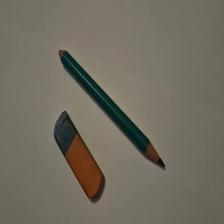eraser: (55, 111, 105, 200)
pencil: (60, 50, 167, 168)
